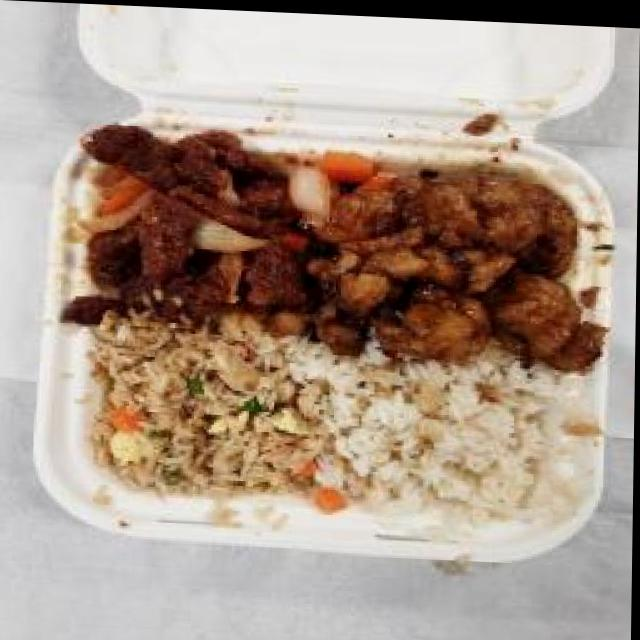Beijing Beef: (64, 120, 310, 332)
Fried Rice: (89, 318, 331, 502)
The Original Orange Chicken: (294, 143, 601, 377)
White Steamed Rice: (324, 352, 586, 529)
